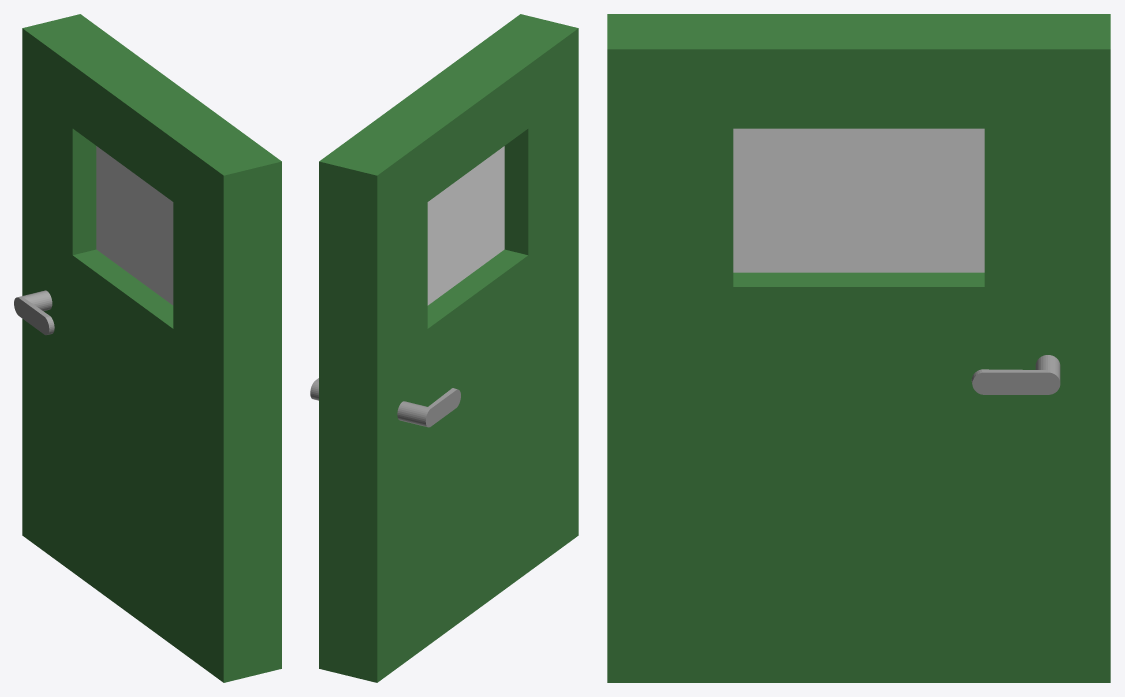
File: DoorWindowCenterGreen.fbx
3 renders of one model, left to right at view 1: azimuth 30°, elevation 25°; view 2: azimuth 150°, elevation 25°; view 3: azimuth 270°, elevation 25°, orthographic. The views are drawn at different scales.
Visible parts, largest first — view 1: DoorWindowCenterGreen, Window, Cylinder.001; view 2: DoorWindowCenterGreen, Window, Cylinder.001; view 3: DoorWindowCenterGreen, Window, Cylinder.
Boxes of the visible parts, x1,y1,x2,y2 form: DoorWindowCenterGreen: (22, 14, 281, 682); Window: (96, 146, 173, 305); Cylinder.001: (14, 290, 54, 335); DoorWindowCenterGreen: (319, 14, 578, 682); Window: (427, 146, 504, 305); Cylinder.001: (397, 388, 460, 427); DoorWindowCenterGreen: (607, 14, 1110, 682); Window: (733, 128, 984, 272); Cylinder: (971, 355, 1060, 394).
Bounding box in the file's own units: 119 × 500 × 360.
